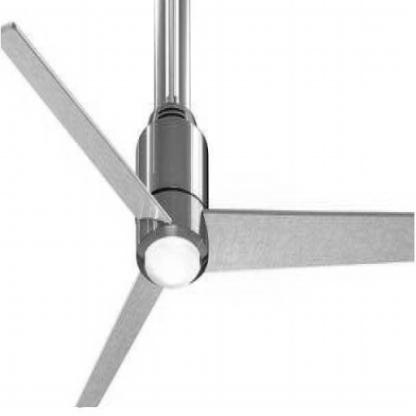ceiling-fan: (1, 0, 415, 408)
